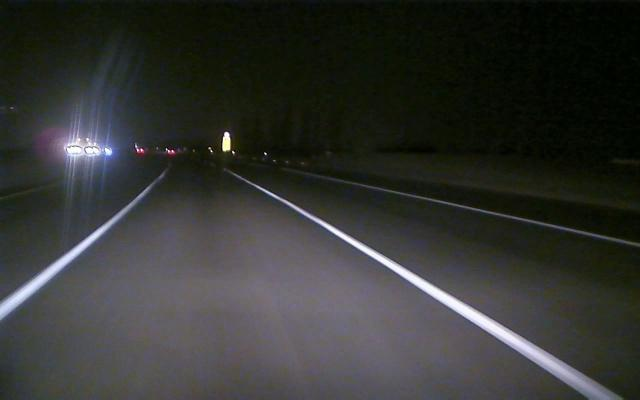lane: (232, 173, 622, 397), (1, 189, 149, 319), (361, 183, 640, 248)
